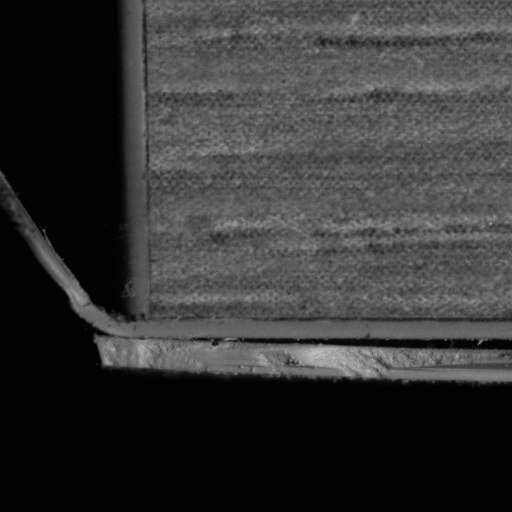kaijiao: (95, 315, 511, 389), (0, 176, 138, 346)
